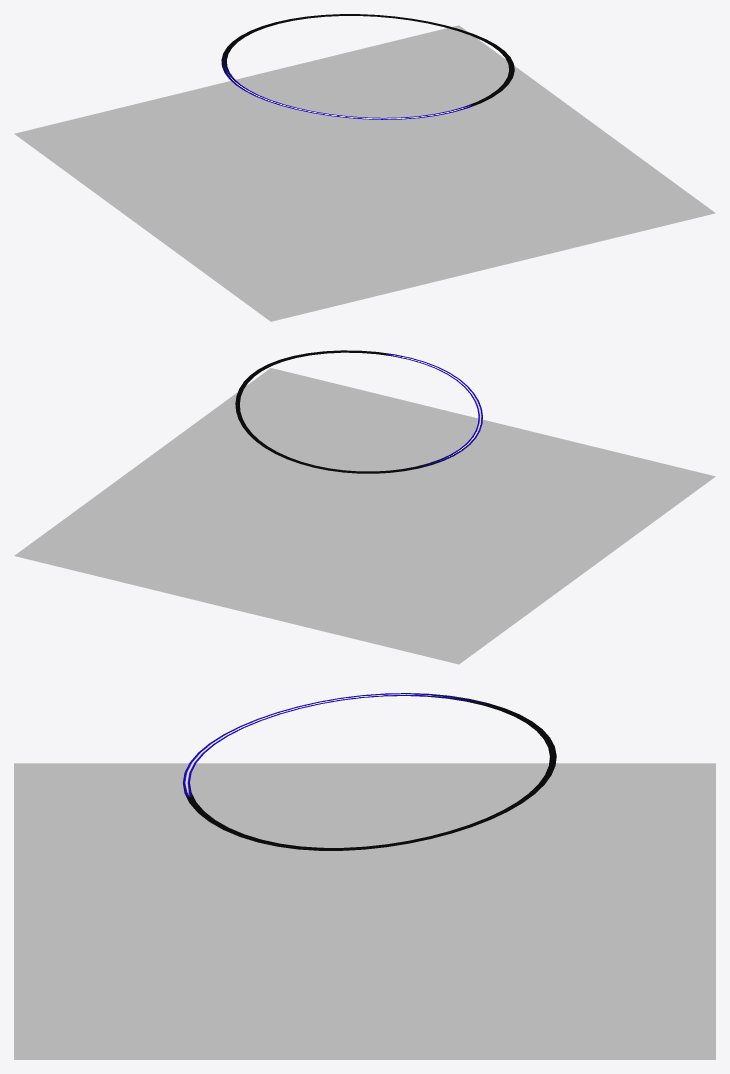
Rendered from huan.FBX.
The picture shows the model from 3 angles, top to bottom: view 1: azimuth 30°, elevation 25°; view 2: azimuth 150°, elevation 25°; view 3: azimuth 270°, elevation 25°; orthographic projection. The views are drawn at different scales.
Visible parts, largest first — view 1: Plane001, Plane002; view 2: Plane001, Plane002; view 3: Plane001, Plane002.
Part boxes in pixels (left/top/right/bottom): Plane001: left=14, top=25, right=715, bottom=321; Plane002: left=221, top=14, right=514, bottom=119; Plane001: left=14, top=368, right=715, bottom=664; Plane002: left=235, top=350, right=482, bottom=473; Plane001: left=14, top=763, right=715, bottom=1059; Plane002: left=183, top=693, right=556, bottom=850.
Size of the model in its own units: 250 by 56.15 by 250.
